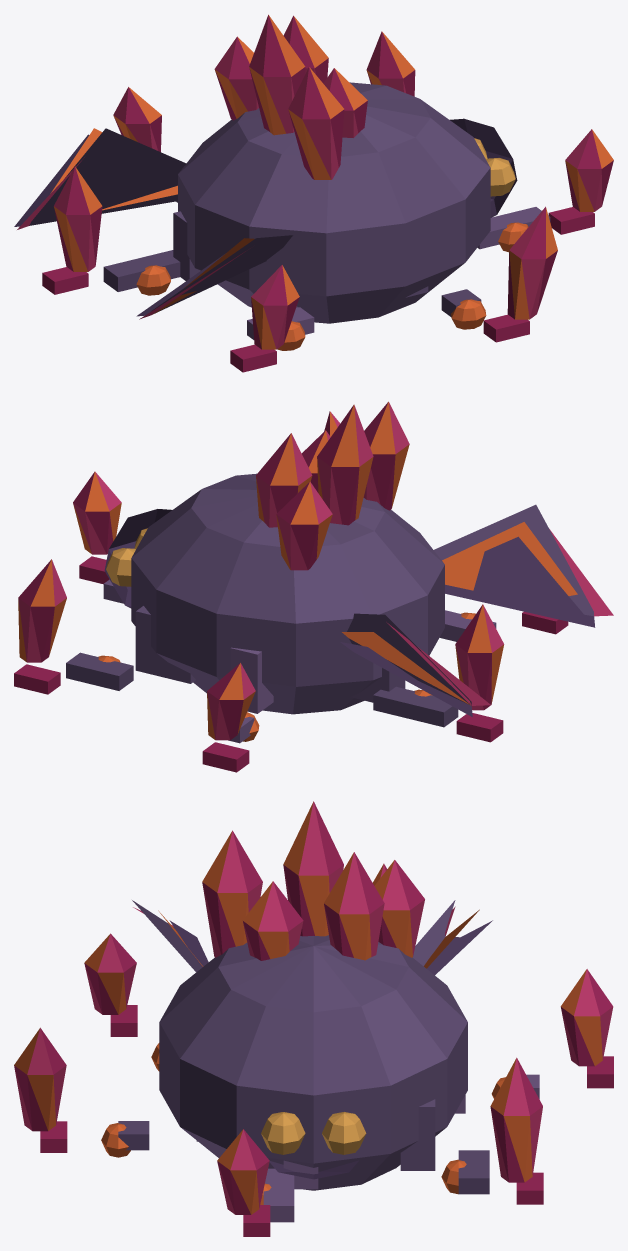
File: enemy-crawler.glb
3 renders of one model, top to bottom at view 1: azimuth 30°, elevation 25°; view 2: azimuth 150°, elevation 25°; view 3: azimuth 270°, elevation 25°, orthographic. The views are drawn at different scales.
Parts seen in each view (by area): view 1: Crawler multi-legged crab shell; view 2: Crawler multi-legged crab shell; view 3: Crawler multi-legged crab shell.
Part boxes in pixels (left/top/right/bottom): Crawler multi-legged crab shell: left=14, top=14, right=613, bottom=372; Crawler multi-legged crab shell: left=14, top=401, right=613, bottom=772; Crawler multi-legged crab shell: left=14, top=801, right=613, bottom=1236.
Bounding box in the file's own units: 0.6165 × 0.36 × 0.5918.
